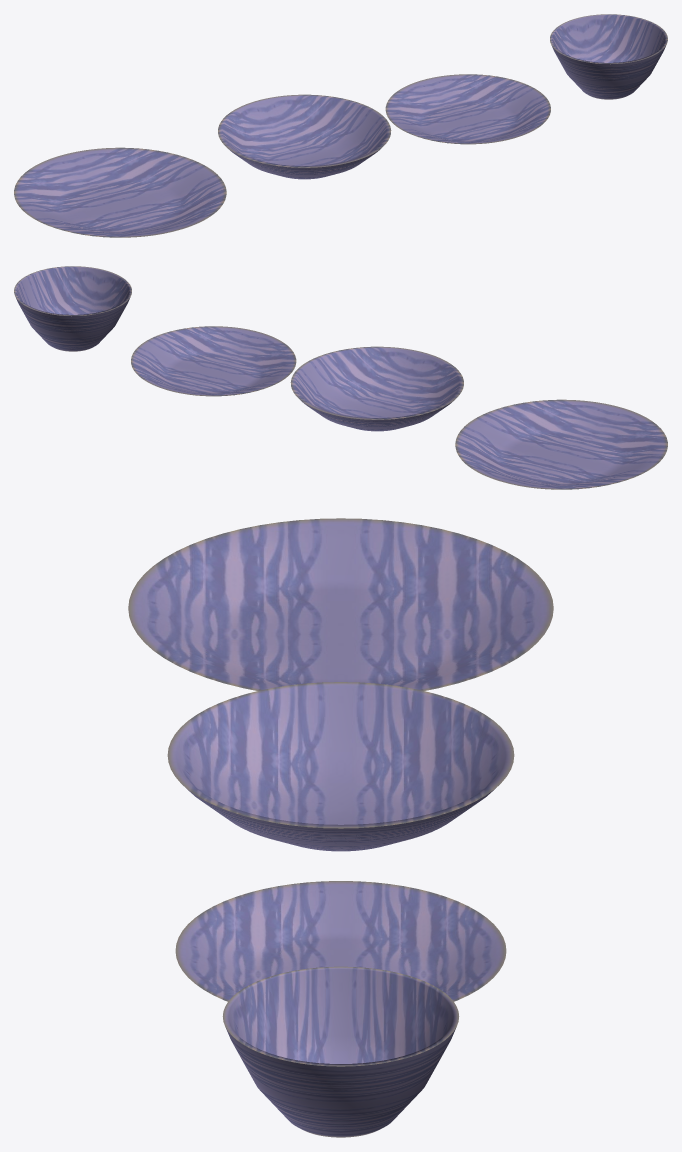
File: RAY-14.glb
3 renders of one model, top to bottom at view 1: azimuth 30°, elevation 25°; view 2: azimuth 150°, elevation 25°; view 3: azimuth 270°, elevation 25°, orthographic. The views are drawn at different scales.
Size of the model in its own units: 0.926 by 0.07 by 0.27.
8 materials, 8 textured.
